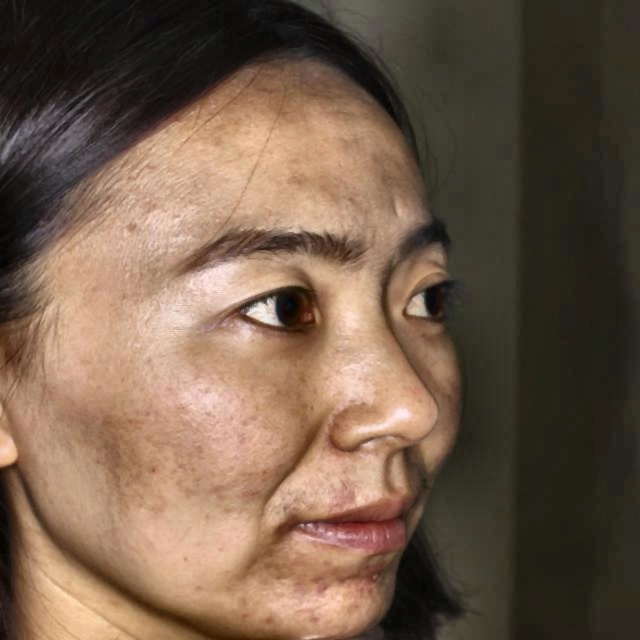comedone: (306, 571, 334, 605), (250, 608, 279, 630), (337, 596, 361, 621), (337, 567, 354, 596), (366, 563, 385, 586)
